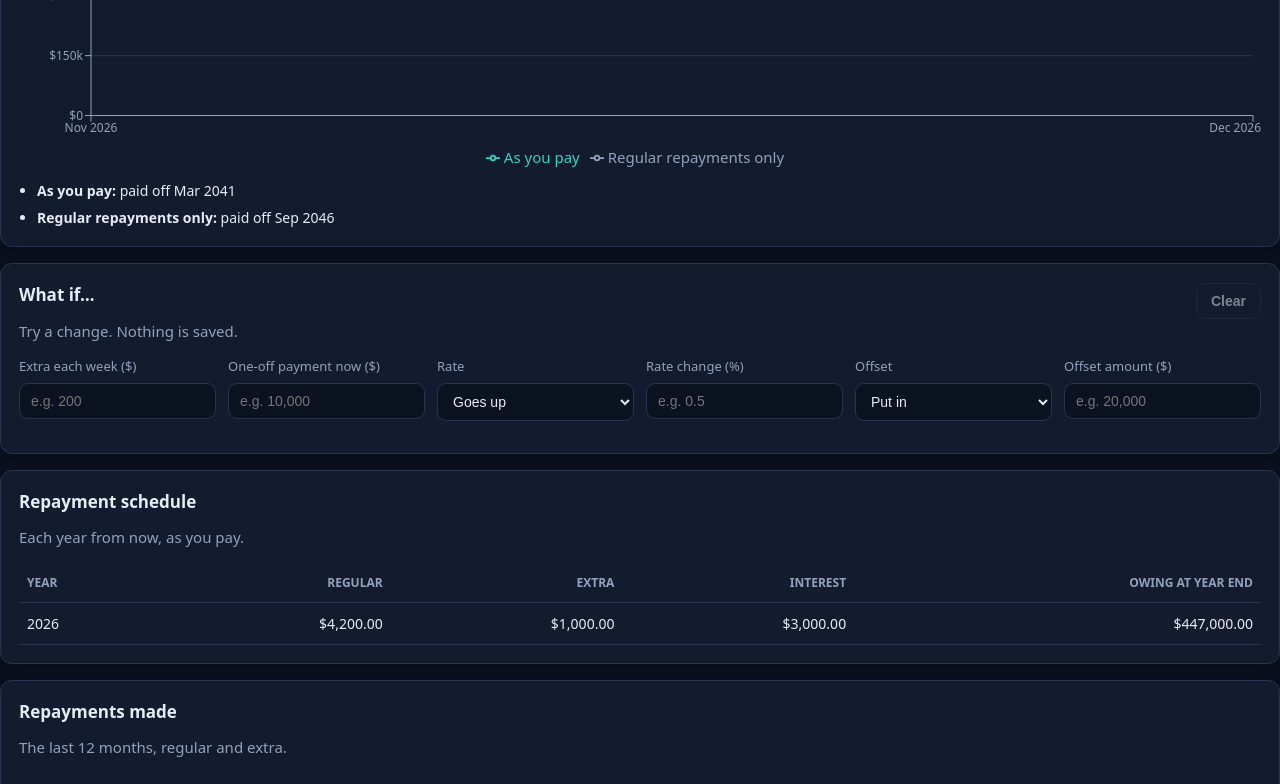
Test: Mortgage page › says a what-if that's later costs more, and a same-month one is about the same
(page scrolled)
Type "1,000" into the field labelled "Offset amount ($)" at (1162, 400), box [1064,382,1261,418]
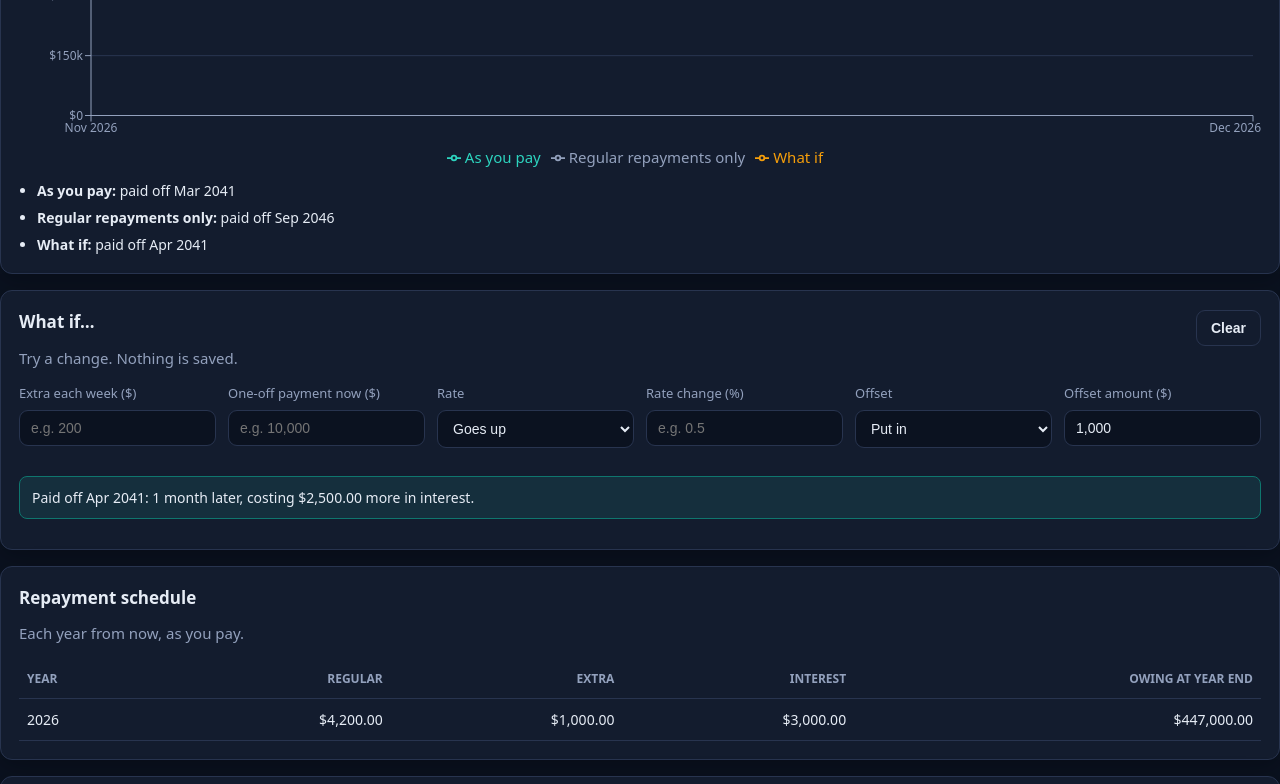
Result: the text "Paid off Apr 2041: 1 month later, costing $2,500.00 more in interest." is shown at [19,476,1261,518]
Replace the text in the field labelled "Offset amount ($)" with "50" at (1162, 428), box [1064,410,1261,446]
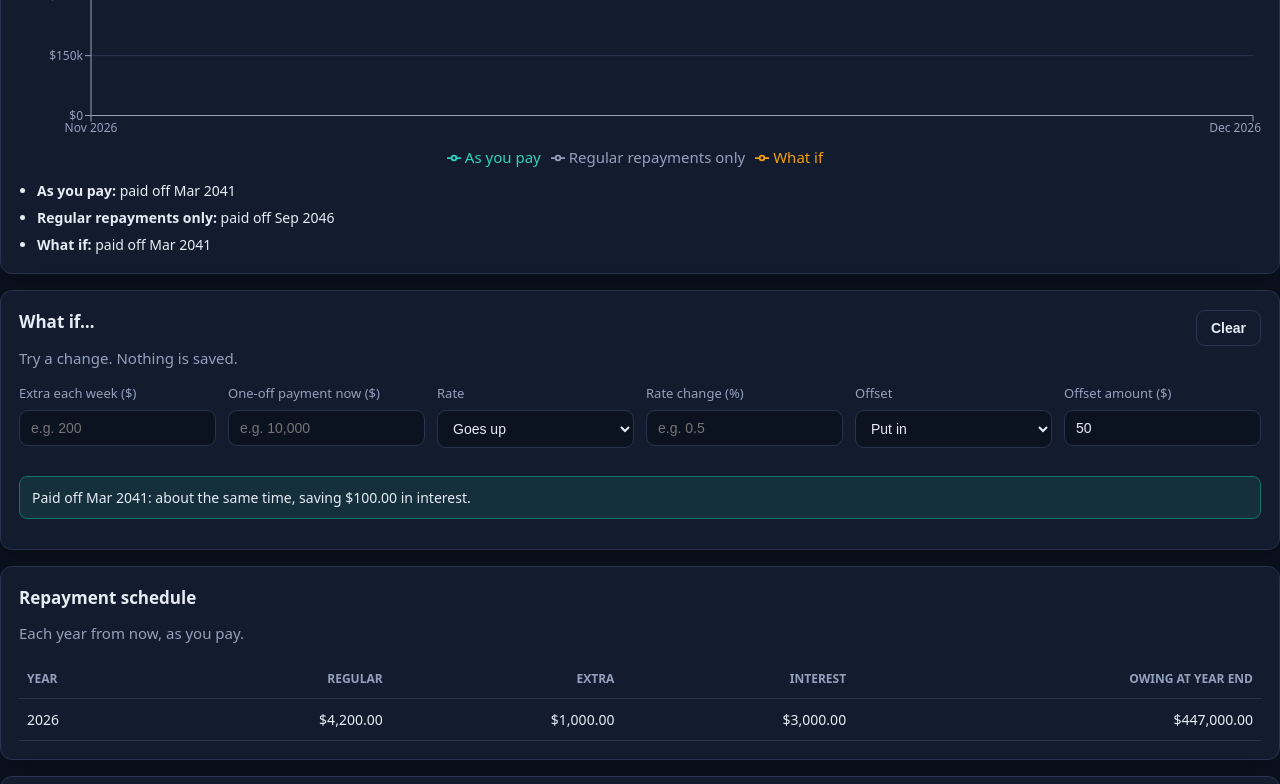
Result: the text "Paid off Mar 2041: about the same time, saving $100.00 in interest." is shown at [19,476,1261,518]
